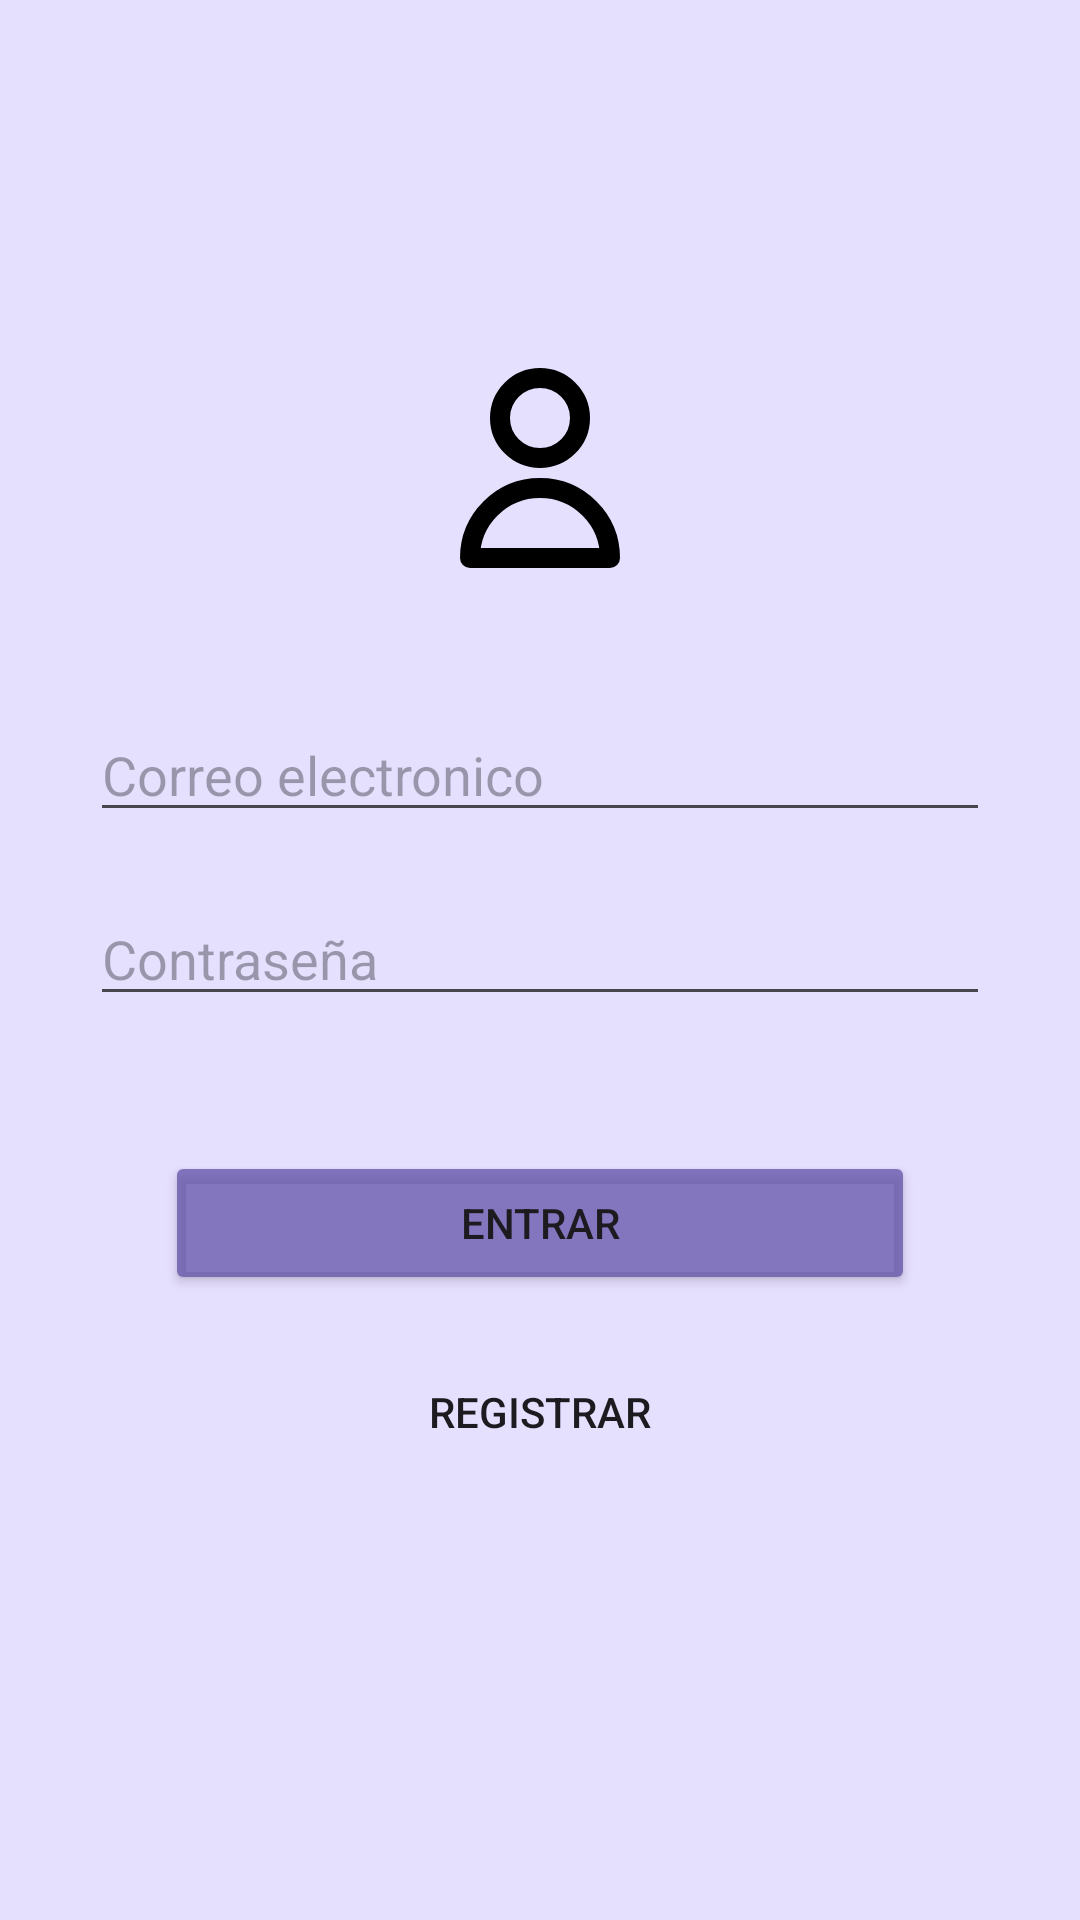

Screen size 1080*1920. Icon name, then its box in pixels as (x1, y1, x2, y2):
user: (460, 368, 620, 568)
